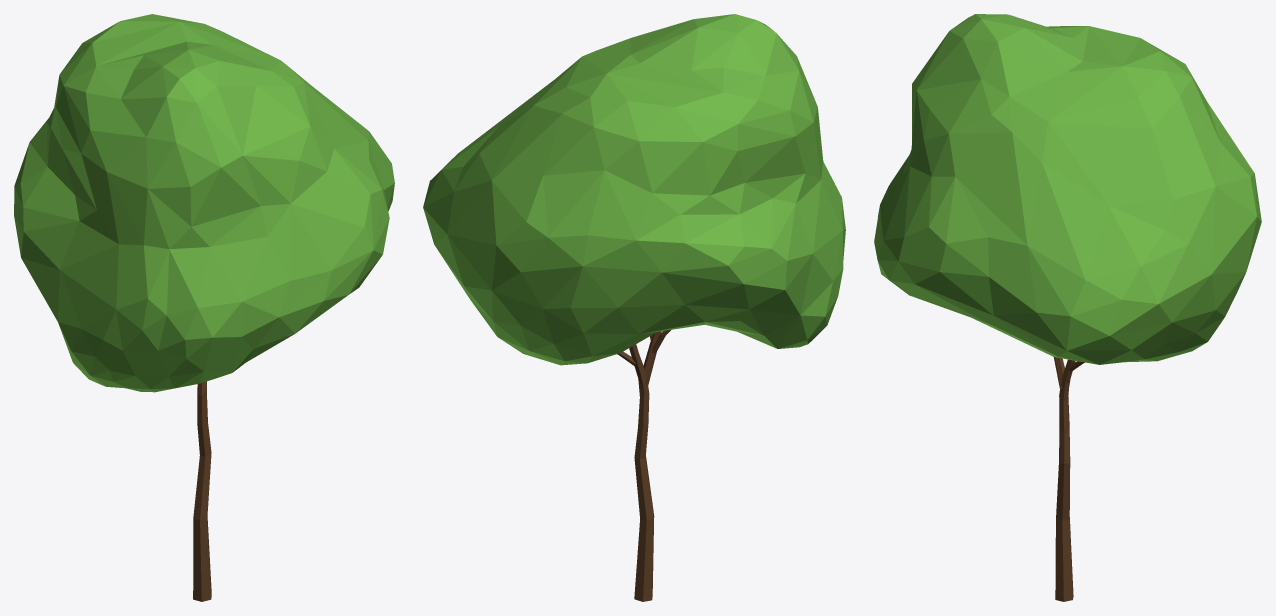
The model's file is Tree04.fbx.
The picture shows the model from 3 angles, left to right: view 1: azimuth 30°, elevation 25°; view 2: azimuth 150°, elevation 25°; view 3: azimuth 270°, elevation 25°; orthographic projection. The views are drawn at different scales.
Visible parts, largest first — view 1: tree_004; view 2: tree_004; view 3: tree_004.
Part boxes in pixels (x1,y1,x2,y2): tree_004: [14, 14, 394, 601]; tree_004: [423, 14, 845, 601]; tree_004: [874, 14, 1261, 601].
Size of what is drawn, in the model's own units: 763 by 1161 by 735.
